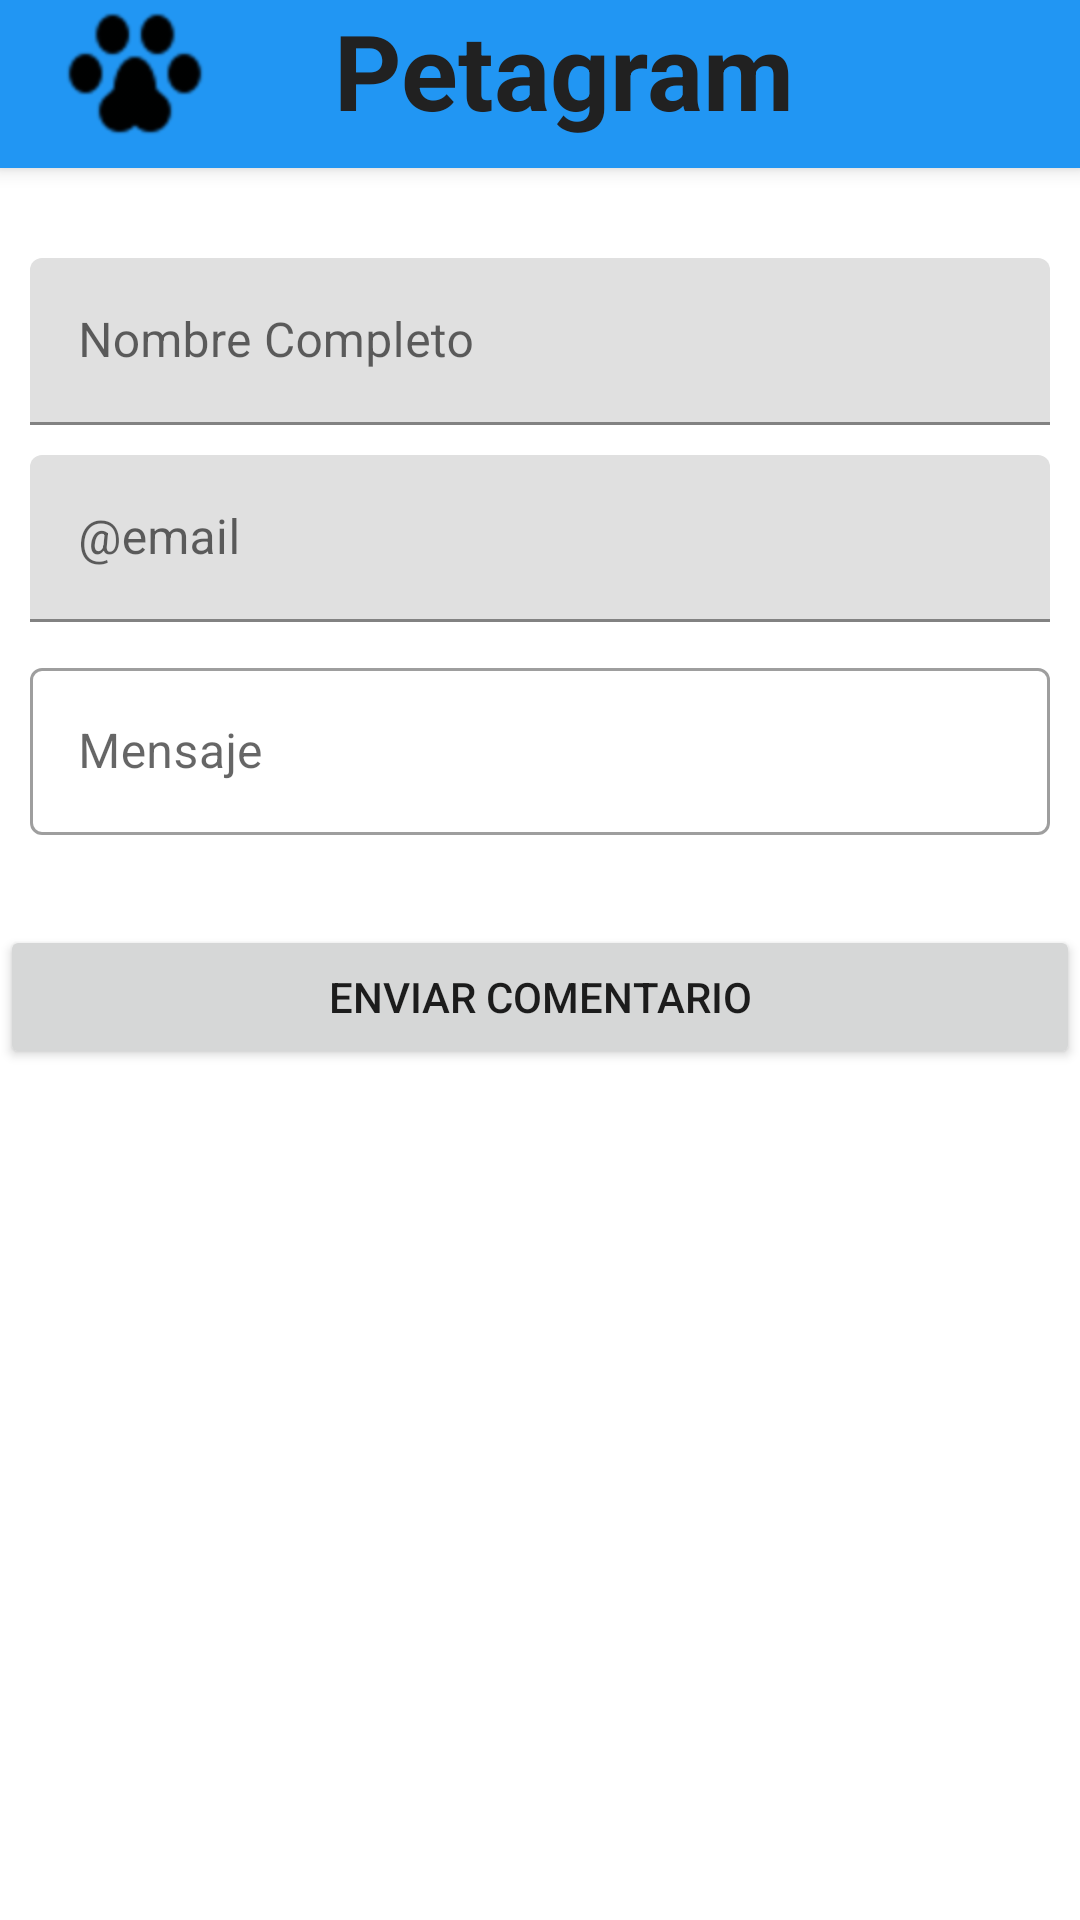

Point at icon controls on the screen. Image size 1080 x 1920, points as point (x, y).
dog paw: point (135, 73)
